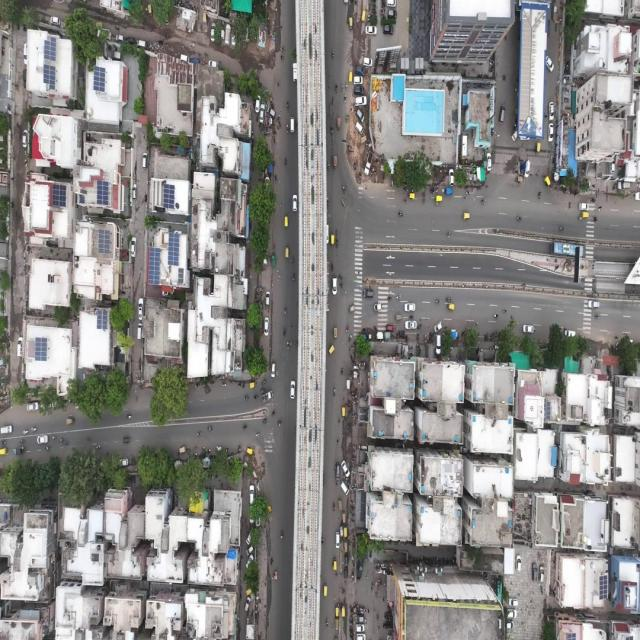3W: (446, 300, 459, 320), (63, 412, 76, 429), (330, 321, 340, 343), (542, 170, 553, 190), (460, 208, 473, 224), (322, 579, 330, 604), (331, 150, 339, 175), (281, 213, 291, 232), (434, 192, 445, 206), (341, 505, 348, 527), (580, 207, 589, 224), (342, 564, 350, 583), (339, 402, 346, 423), (342, 537, 351, 553), (535, 139, 544, 155), (339, 601, 346, 621), (336, 112, 343, 132), (0, 443, 9, 458), (407, 192, 416, 207), (285, 243, 291, 265), (337, 495, 343, 515), (333, 614, 340, 631), (123, 434, 132, 447), (244, 583, 253, 596), (344, 549, 350, 567), (178, 442, 186, 455), (249, 378, 255, 395), (343, 523, 349, 540), (247, 443, 253, 459), (331, 233, 337, 249), (327, 343, 336, 353), (331, 558, 338, 570), (333, 603, 338, 616)
Bus: (548, 240, 584, 259), (555, 220, 569, 240), (514, 208, 523, 230), (479, 195, 490, 206)
Cars: (204, 57, 228, 79), (521, 317, 537, 340), (246, 480, 257, 512), (290, 53, 298, 94), (483, 150, 495, 176), (138, 149, 150, 174), (545, 118, 555, 147), (505, 605, 521, 623), (585, 298, 601, 316), (14, 337, 24, 365), (538, 559, 548, 587), (243, 555, 255, 577), (288, 374, 296, 406), (258, 95, 266, 127), (291, 190, 300, 218), (334, 463, 343, 491), (496, 104, 508, 125), (402, 316, 417, 332), (48, 15, 64, 30), (504, 595, 520, 610), (35, 432, 52, 446), (340, 459, 352, 478), (129, 178, 138, 203), (243, 591, 252, 616), (333, 528, 342, 553), (531, 557, 539, 585), (434, 336, 444, 358), (546, 53, 556, 75), (515, 550, 524, 574), (0, 421, 14, 436), (404, 301, 418, 316), (209, 14, 216, 44), (563, 326, 578, 340), (25, 401, 41, 414), (354, 620, 367, 636), (265, 102, 278, 118), (383, 21, 396, 37), (386, 6, 399, 22), (353, 115, 363, 135), (353, 92, 367, 106), (353, 108, 365, 124), (504, 620, 516, 636), (448, 167, 457, 188), (363, 282, 374, 299), (224, 20, 230, 51), (130, 236, 138, 259), (547, 96, 555, 119), (138, 38, 149, 54), (23, 39, 30, 64), (341, 481, 351, 498), (178, 50, 191, 63), (353, 63, 365, 77), (244, 544, 256, 557), (366, 24, 378, 37), (269, 249, 276, 271), (332, 274, 338, 299), (353, 72, 363, 87), (264, 314, 270, 338), (373, 300, 385, 312), (433, 319, 442, 335), (112, 34, 128, 43), (362, 55, 373, 68), (137, 319, 144, 339), (509, 125, 516, 145), (271, 357, 277, 380), (22, 66, 28, 89), (609, 159, 616, 178), (386, 324, 397, 336), (353, 84, 364, 96), (244, 535, 254, 548), (22, 126, 27, 152), (385, 0, 398, 10), (120, 451, 128, 467), (138, 295, 143, 320), (289, 112, 293, 143), (265, 289, 271, 309), (256, 89, 260, 119), (356, 612, 366, 622), (354, 635, 369, 640)
LCV: (362, 150, 375, 181), (13, 446, 25, 456)
M2W: (277, 528, 287, 547), (444, 288, 455, 305), (339, 195, 350, 212), (220, 377, 230, 395), (344, 318, 352, 340), (341, 176, 349, 197), (490, 309, 502, 323), (274, 417, 284, 433), (283, 151, 291, 170), (21, 425, 30, 441), (195, 429, 205, 443), (234, 440, 244, 454), (329, 46, 336, 66), (240, 422, 249, 437), (259, 375, 268, 390), (282, 304, 289, 323), (332, 498, 339, 517), (330, 382, 337, 401), (290, 249, 296, 271), (205, 423, 215, 436), (28, 423, 37, 437), (252, 393, 261, 407), (272, 168, 279, 186), (244, 392, 252, 407), (339, 361, 345, 381), (261, 414, 268, 431), (284, 97, 293, 110), (332, 83, 341, 96), (283, 324, 290, 340), (435, 295, 442, 311), (348, 333, 354, 351), (344, 109, 350, 127), (126, 410, 133, 425), (284, 337, 290, 354), (83, 434, 94, 443), (385, 294, 394, 305), (254, 427, 261, 441), (285, 118, 290, 137), (290, 271, 297, 284), (48, 431, 57, 441), (502, 305, 508, 320), (235, 379, 243, 389), (62, 440, 71, 448), (446, 229, 452, 241), (259, 385, 265, 397), (270, 406, 277, 416), (398, 209, 404, 219), (325, 615, 329, 629), (59, 435, 65, 443), (396, 294, 402, 302), (344, 93, 347, 104)
